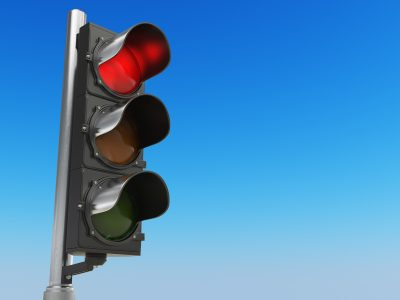trafficlight_red: (74, 25, 171, 260)
